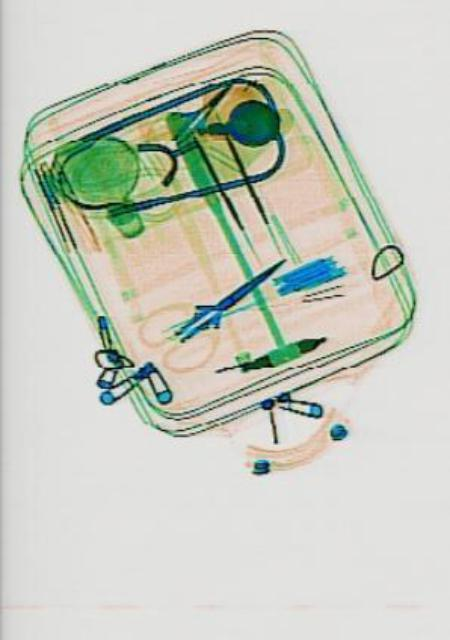Knife: (169, 242, 289, 352)
